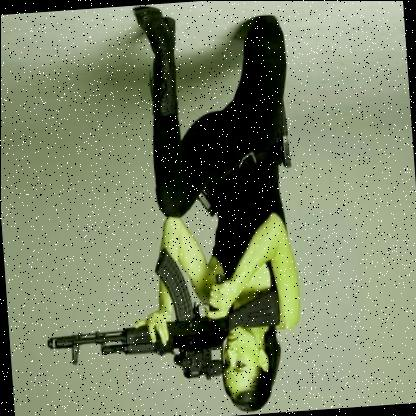rifle: (38, 241, 287, 389), (271, 96, 297, 171)
